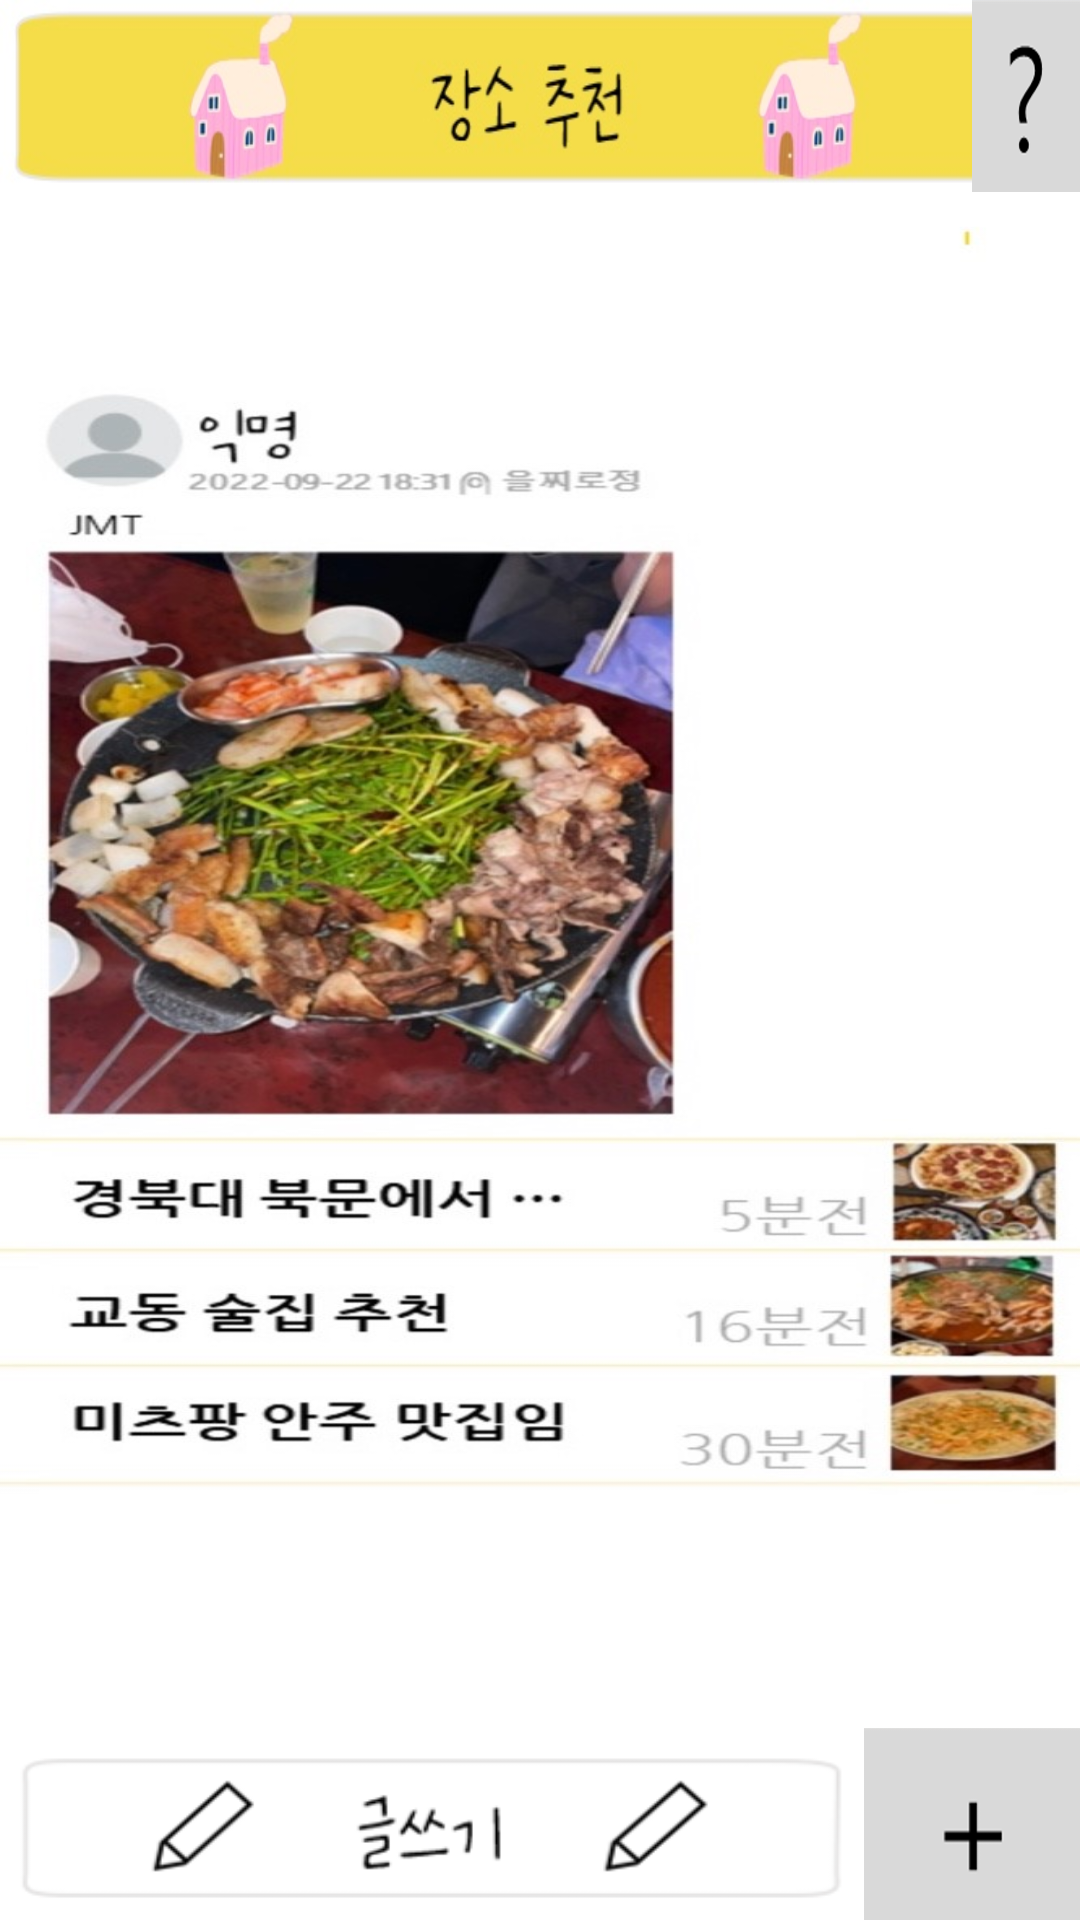

Icons on this 1080×1920 Android screen, each with the point to tap as point (x, y):
plus: point (972, 1824)
question: point (1026, 96)
